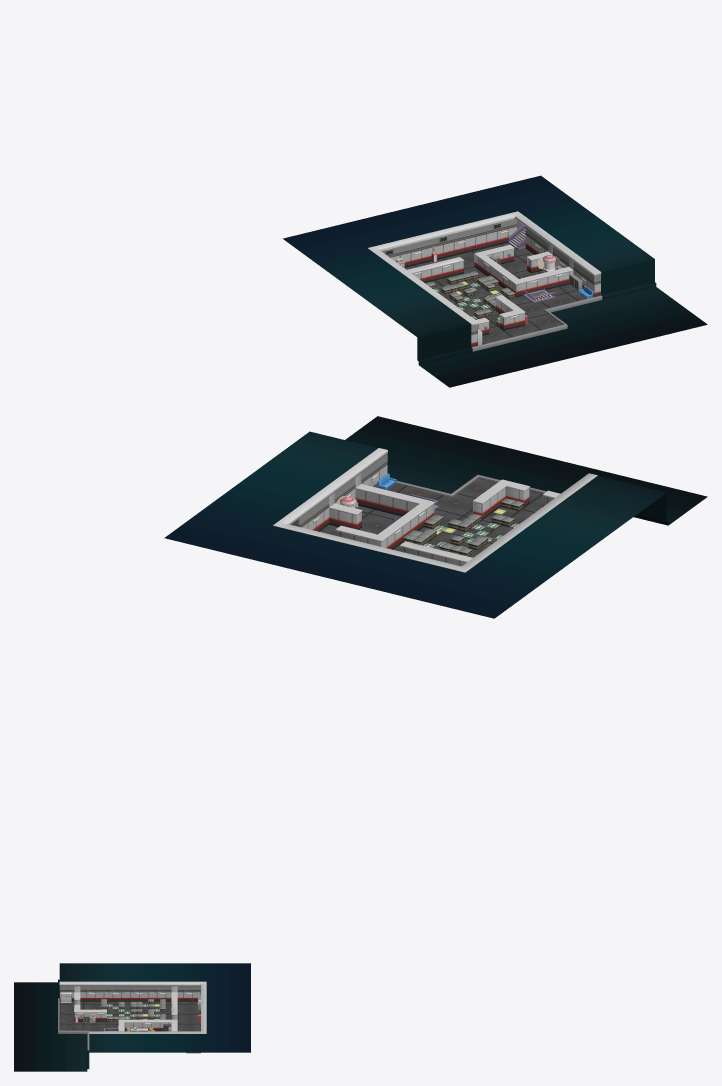
3 renders of one model, top to bottom at view 1: azimuth 30°, elevation 25°; view 2: azimuth 150°, elevation 25°; view 3: azimuth 270°, elevation 25°, orthographic. The views are drawn at different scales.
Parts seen in each view (by area): view 1: combg01_03, eb6d0be6b3e1a3b81644, eb40a00496bcaa19435a4d934a, floor_03, de54418e09c9d629272c023d7c; view 2: combg01_03, eb40a00496bcaa19435a4d934a, eb6d0be6b3e1a3b81644, floor_03, de54418e09c9d629272c023d7c; view 3: combg01_03, eb6d0be6b3e1a3b81644, eb40a00496bcaa19435a4d934a, floor_03, de54418e09c9d629272c023d7c, ca8d8bc732854b74577818eecc.
Boxes of the visible parts, left/top/right/bottom form: combg01_03: left=283, top=175, right=707, bottom=387; eb6d0be6b3e1a3b81644: left=382, top=219, right=600, bottom=347; eb40a00496bcaa19435a4d934a: left=368, top=211, right=602, bottom=351; floor_03: left=404, top=242, right=585, bottom=344; de54418e09c9d629272c023d7c: left=425, top=271, right=515, bottom=327; combg01_03: left=164, top=416, right=707, bottom=618; eb40a00496bcaa19435a4d934a: left=273, top=448, right=597, bottom=572; eb6d0be6b3e1a3b81644: left=297, top=454, right=553, bottom=566; floor_03: left=319, top=478, right=542, bottom=557; de54418e09c9d629272c023d7c: left=403, top=498, right=524, bottom=556; combg01_03: left=14, top=963, right=250, bottom=1071; eb6d0be6b3e1a3b81644: left=59, top=986, right=200, bottom=1031; eb40a00496bcaa19435a4d934a: left=58, top=981, right=206, bottom=1050; floor_03: left=59, top=1001, right=200, bottom=1031; de54418e09c9d629272c023d7c: left=101, top=999, right=165, bottom=1021; ca8d8bc732854b74577818eecc: left=107, top=1004, right=159, bottom=1019.
Size of the model in its own units: 3592 by 543 by 11777.
42 materials, 41 textured.
